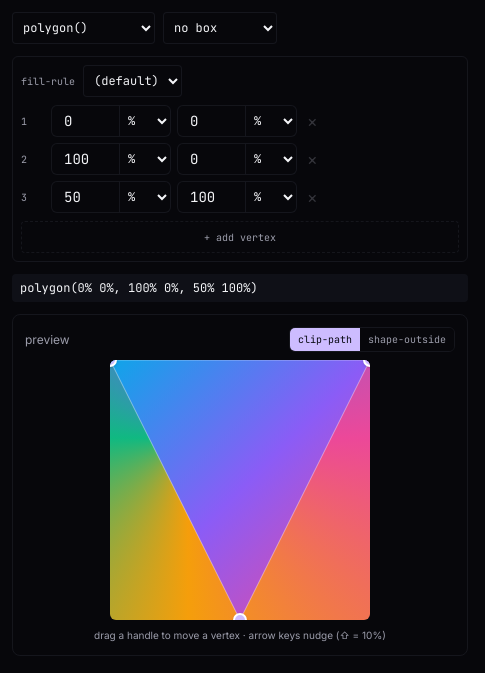
it: ClipPathPreview — draggable vertex › dragging a vertex handle writes a percentage-updated polygon
Press the mouse on the button named "vertex 1 at" at (110, 360), box [103,353,117,367]
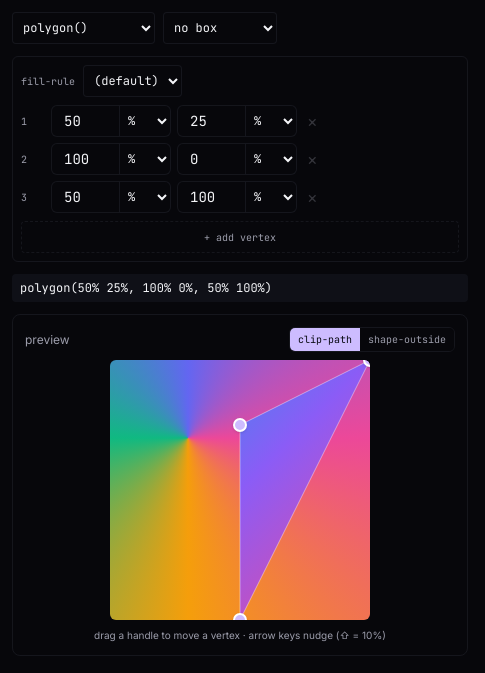
Expected: the text "polygon(50% 25%," is shown, [20,280,272,296]
